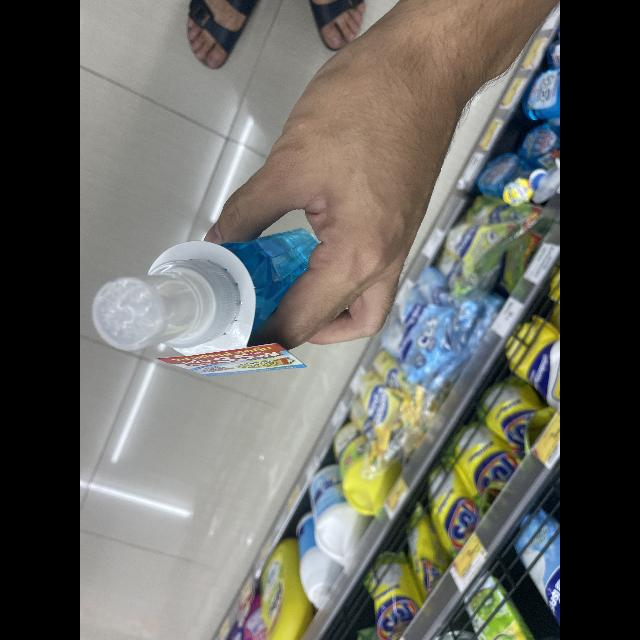chemical_plastic_bottle: (90, 222, 362, 374)
